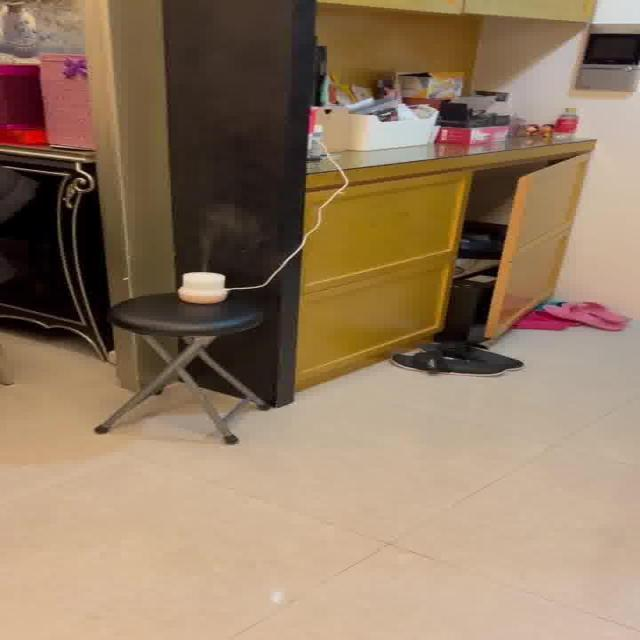fire: (188, 202, 264, 262)
